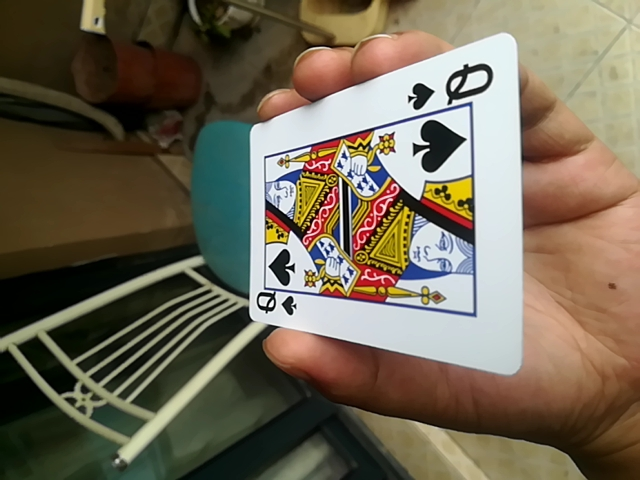ht q: (245, 32, 522, 381)
